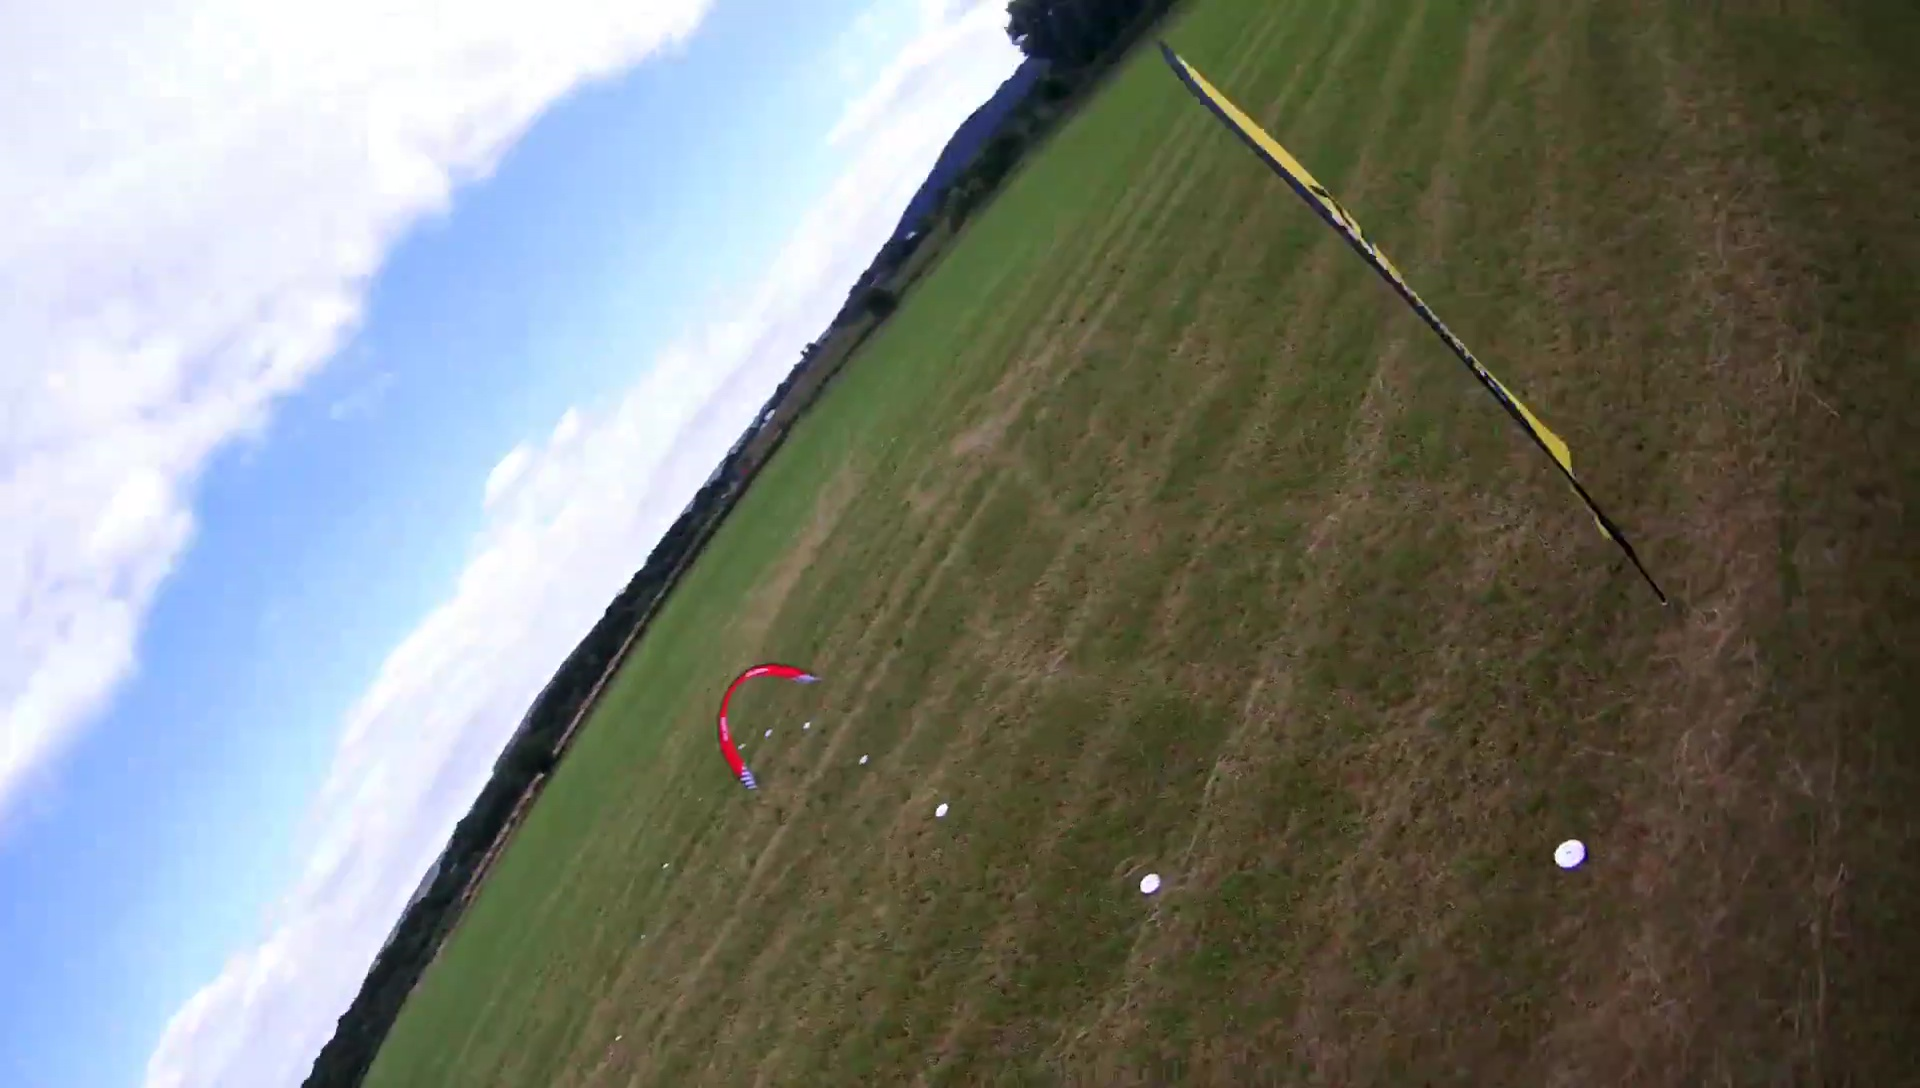gate: (713, 663, 827, 794)
